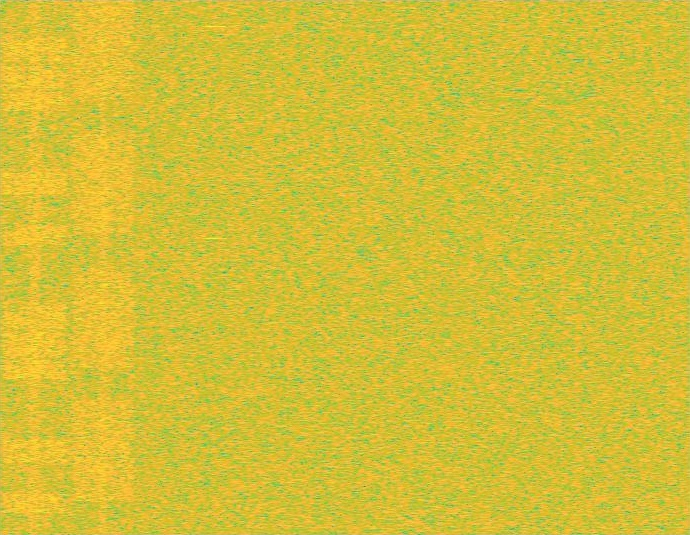5G: (69, 0, 138, 534)
DSSS: (27, 0, 42, 534), (99, 0, 108, 534)
LTE: (0, 0, 69, 534)
Radar: (207, 0, 220, 534)
